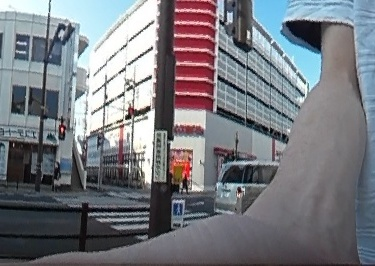person: (52, 159, 61, 191), (180, 174, 189, 193)
